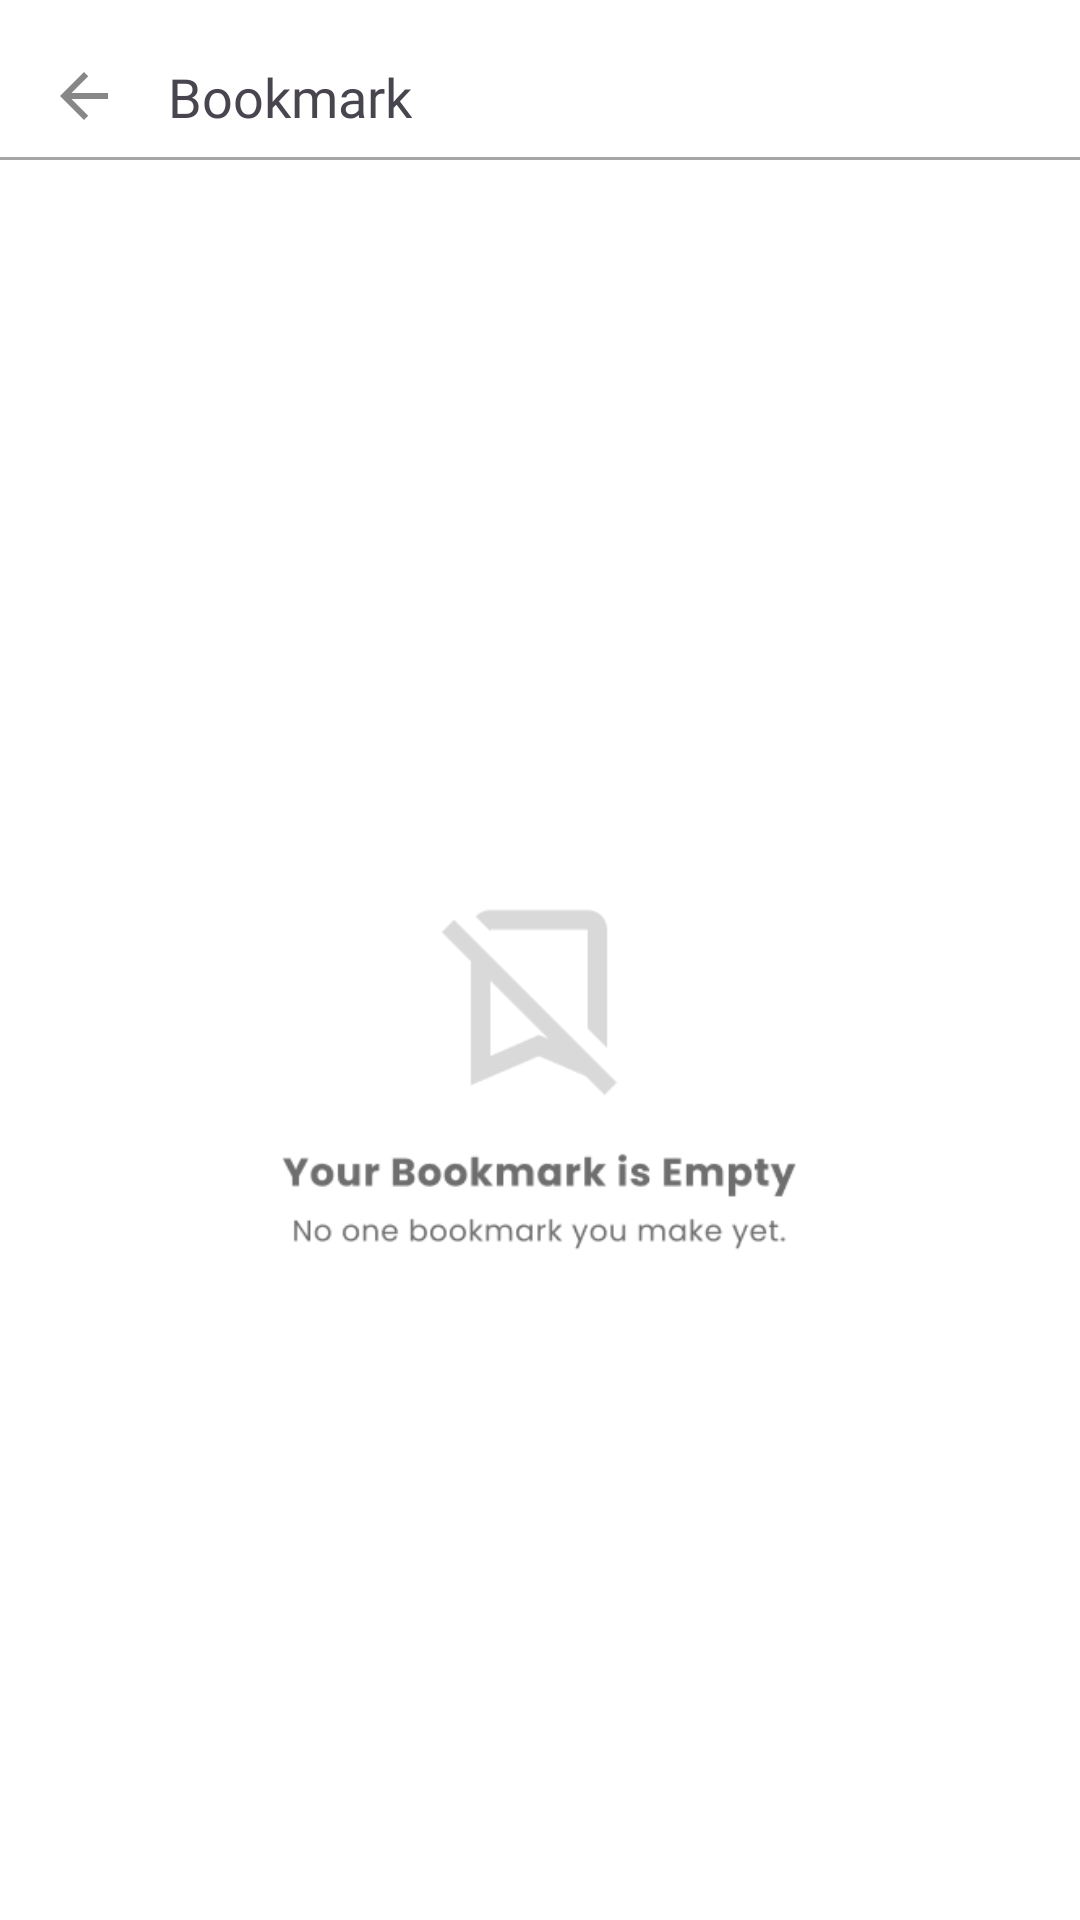

Where icons sit on this 1080*1920 app screen, as bbox(x1, y1, x2, y2):
Back button: bbox(60, 72, 108, 120)
